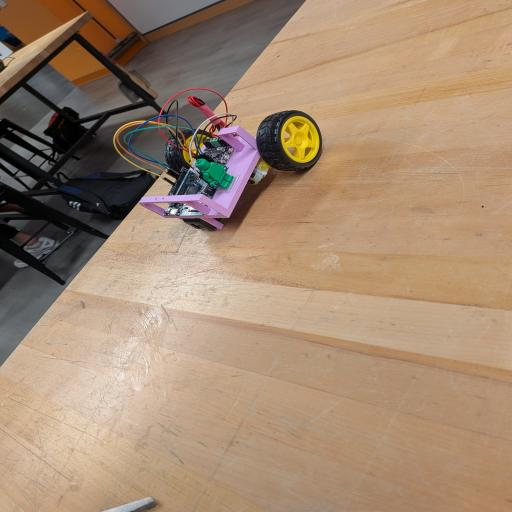Minifig: (196, 158, 233, 188)
